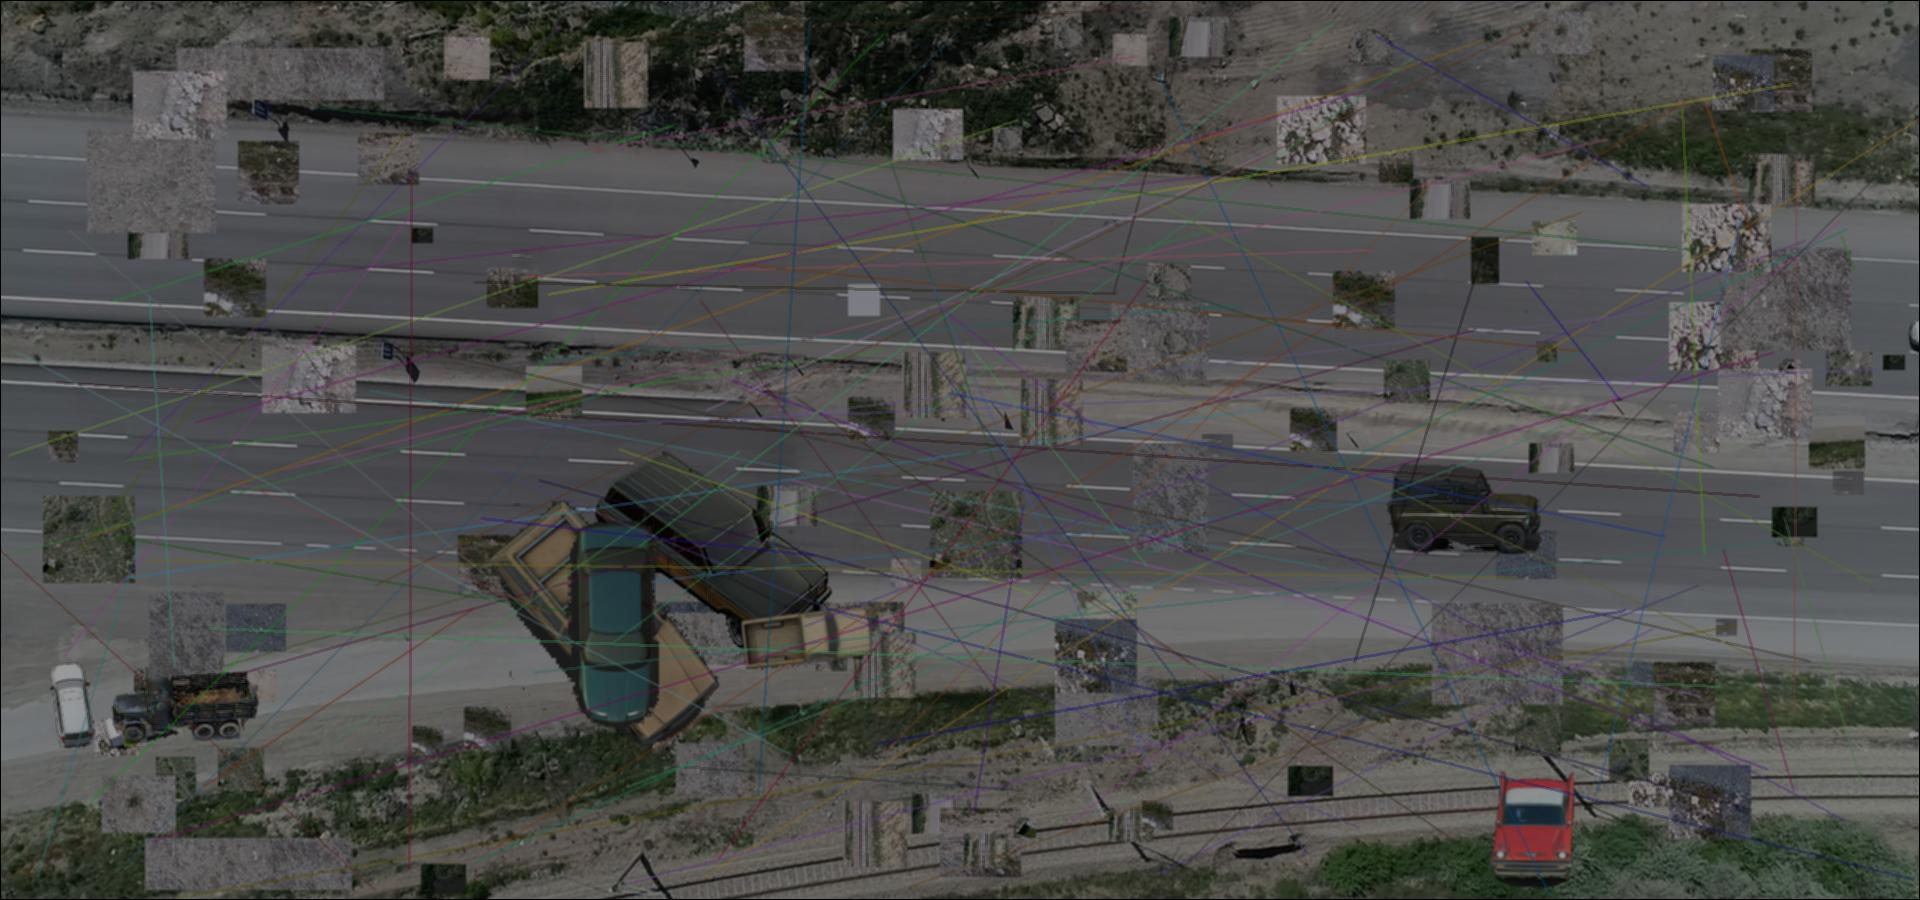arac: (492, 489, 722, 749), (591, 451, 833, 651), (567, 520, 659, 727), (1385, 464, 1540, 553), (111, 669, 258, 747), (99, 680, 260, 749), (1491, 771, 1580, 890), (738, 605, 876, 671), (50, 662, 96, 749)
